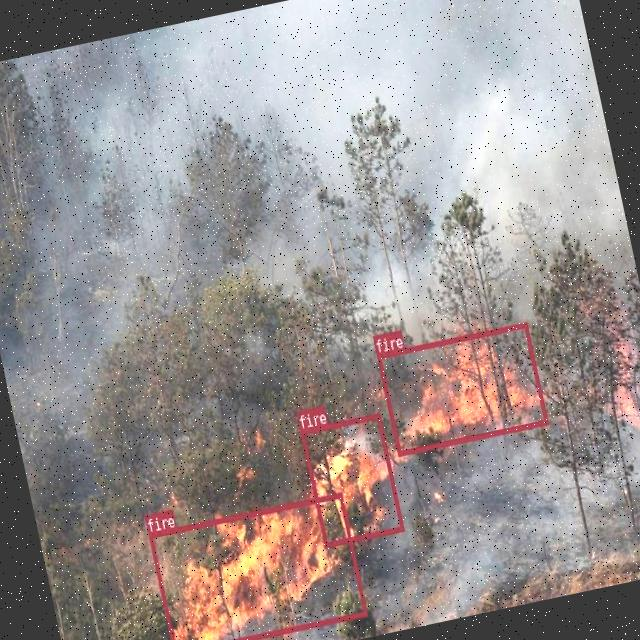fire: (147, 491, 367, 640), (375, 320, 547, 455), (299, 412, 404, 546)
